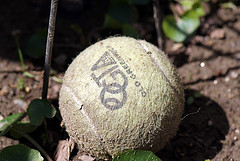tennis ball: (59, 34, 187, 156)
